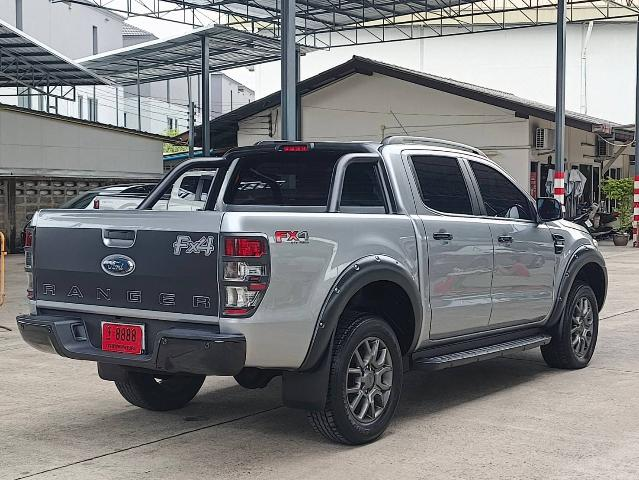pickup-truck: (15, 127, 612, 453)
